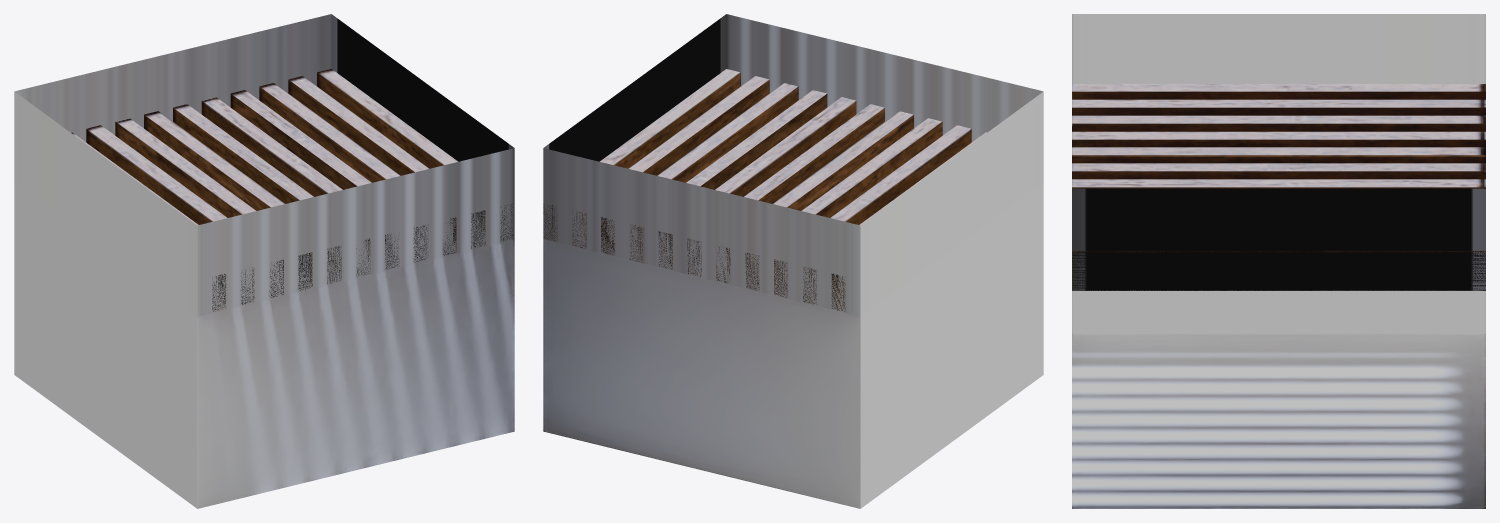
Rendered from boxE.glb.
3 renders of one model, left to right at view 1: azimuth 30°, elevation 25°; view 2: azimuth 150°, elevation 25°; view 3: azimuth 270°, elevation 25°, orthographic. The views are drawn at different scales.
Visible parts, largest first — view 1: Cube; view 2: Cube; view 3: Cube.
Boxes of the visible parts, x1,y1,x2,y2 form: Cube: (14, 14, 514, 508); Cube: (543, 14, 1043, 508); Cube: (1072, 14, 1485, 508).
Size of the model in its own units: 2 by 1.71 by 2.
Materials: 1 (1 with a texture image).
